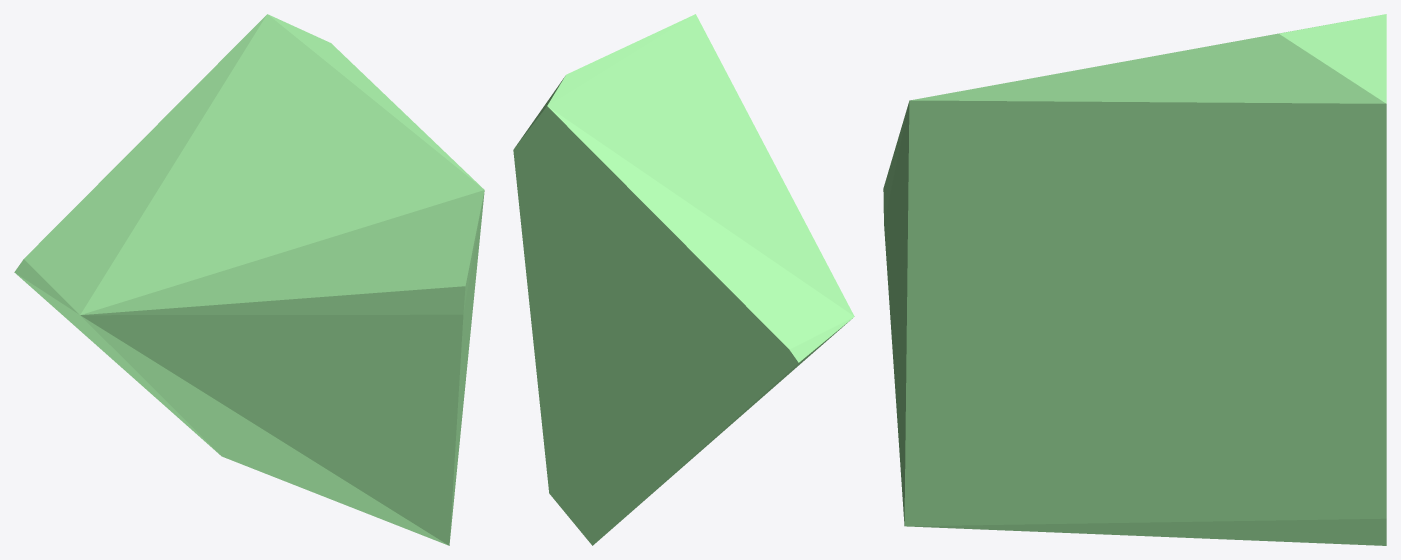
Rendered from UMIRobot_UMIRobot_link_2_convex_coll_25.dae.
3 renders of one model, left to right at view 1: azimuth 30°, elevation 25°; view 2: azimuth 150°, elevation 25°; view 3: azimuth 270°, elevation 25°, orthographic. The views are drawn at different scales.
Parts seen in each view (by area): view 1: node; view 2: node; view 3: node.
Boxes of the visible parts, x1,y1,x2,y2 form: node: (14,14,484,545); node: (513,14,854,545); node: (883,14,1386,545).
Bounding box in the file's own units: 0.038 × 0.0546 × 0.0444.
